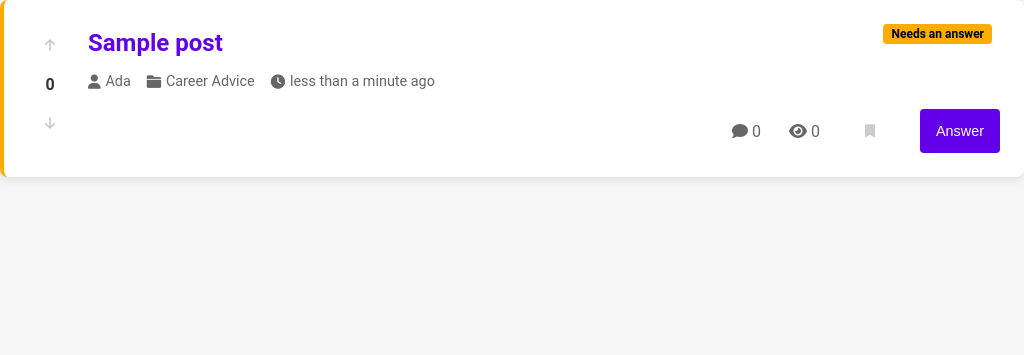
it: PostItem answer composer › opens a composer, submits an answer, and the card leaves the needs-answer state
Step 1. Click the button "Answer" → {"x": 960, "y": 131}, box [920,109,1000,153]
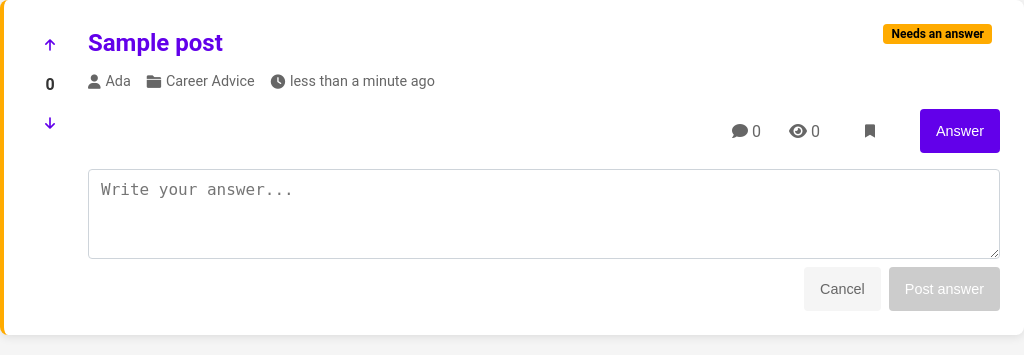
Step 2. Type "My answer" into the text box with placeholder "Write your answer..." → {"x": 544, "y": 214}, box [88,169,1000,259]
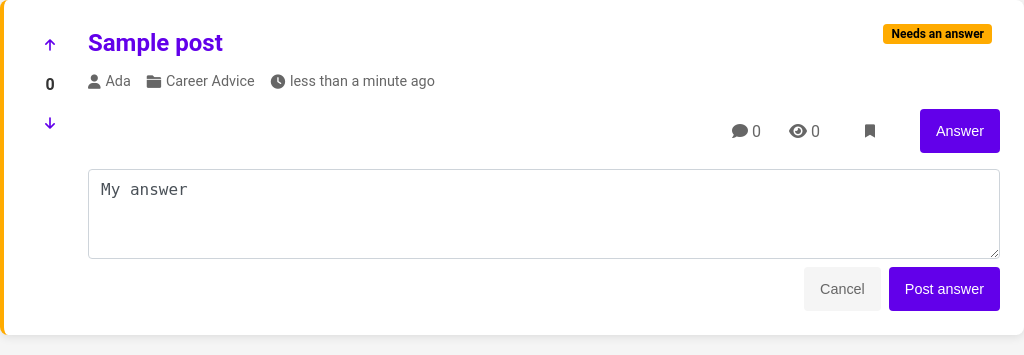
Step 3. Click the button "Post answer" → {"x": 944, "y": 289}, box [889,267,1000,311]
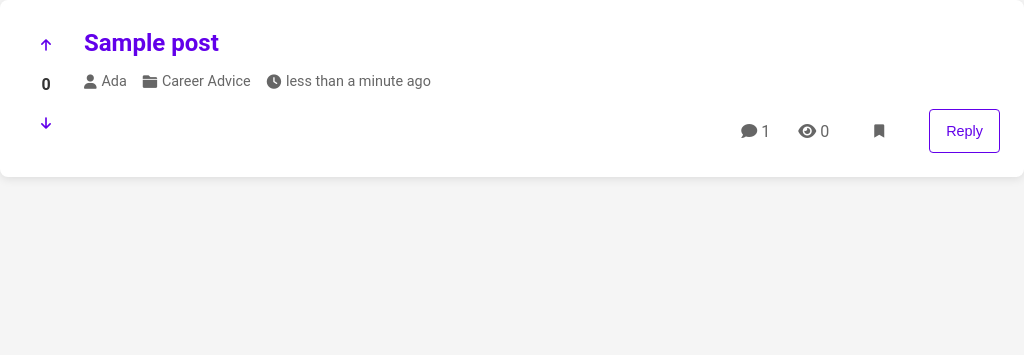
expect the field with placeholder "Write your answer..." is not shown: met
expect the text "Needs an answer" is gone: met
